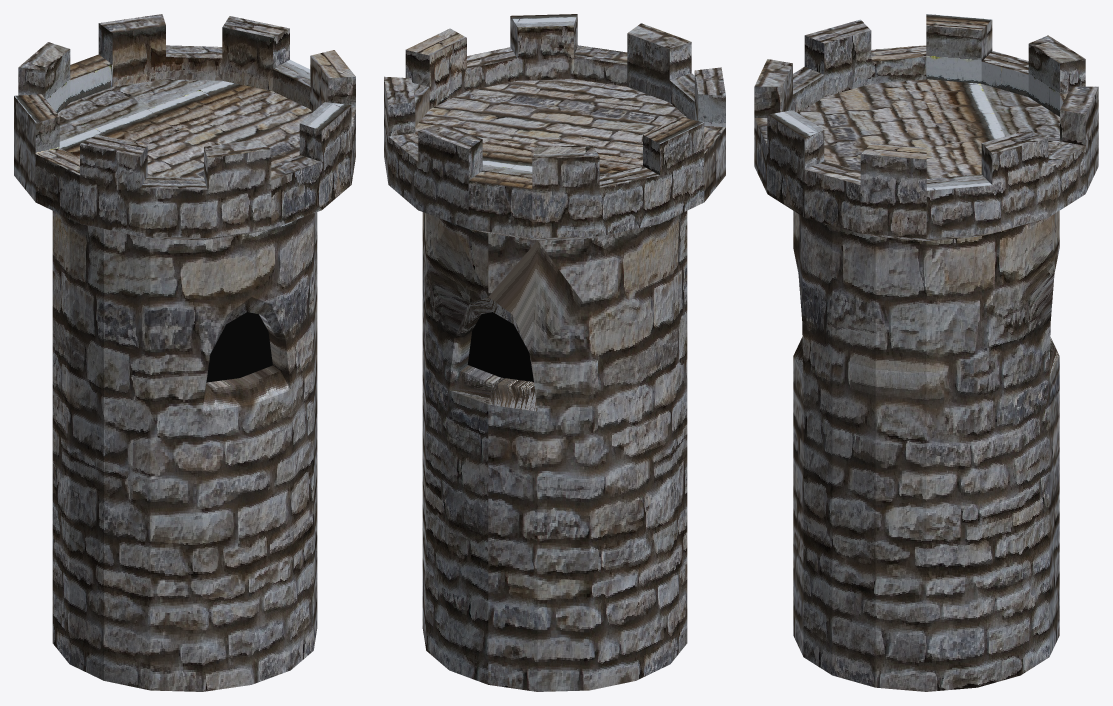
File: Tower.glb
3 renders of one model, left to right at view 1: azimuth 30°, elevation 25°; view 2: azimuth 150°, elevation 25°; view 3: azimuth 270°, elevation 25°, orthographic.
Parts seen in each view (by area): view 1: Tower; view 2: Tower; view 3: Tower.
Part boxes in pixels (box(x1,y1,x2,y2)): Tower: box(14, 14, 355, 691); Tower: box(384, 14, 725, 691); Tower: box(754, 14, 1098, 691).
Bounding box in the file's own units: 20.7 × 36.4 × 20.7.
2 materials, 1 textured.
